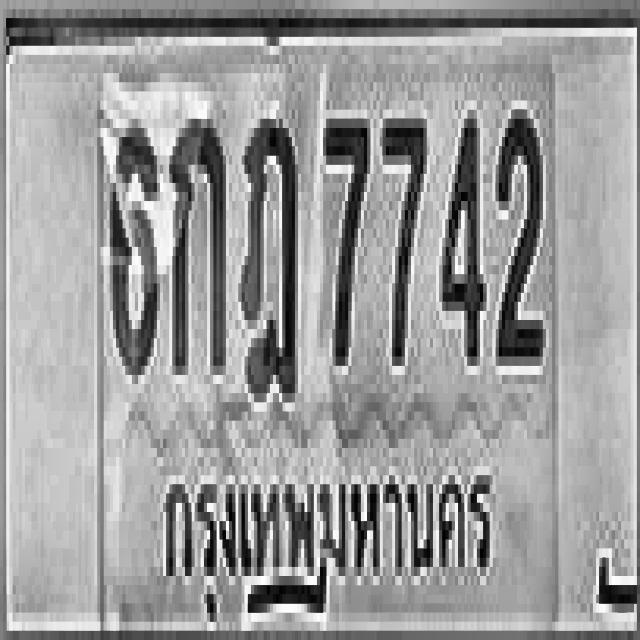license-plate: (8, 47, 632, 614)
